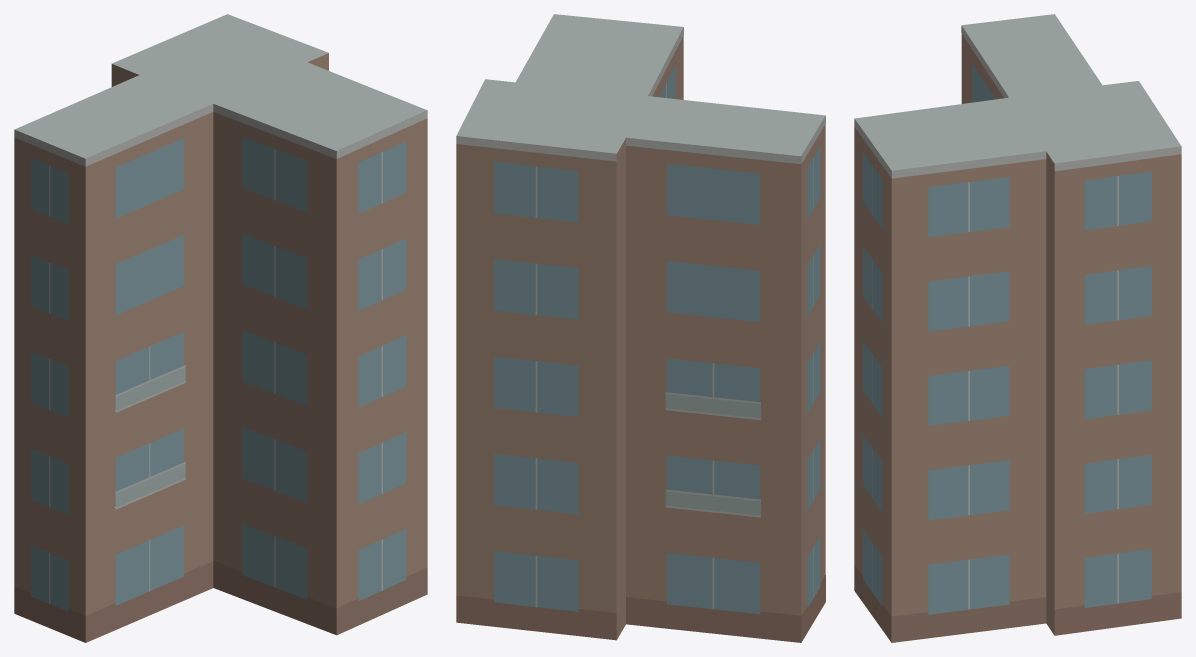
Rendered from survey-upis-32474088.glb.
3 views of the same model, side by side, from view 1: azimuth 30°, elevation 25°; view 2: azimuth 150°, elevation 25°; view 3: azimuth 270°, elevation 25° (orthographic). The views are drawn at different scales.
Parts seen in each view (by area): view 1: survey-upis-32474088.tmp; view 2: survey-upis-32474088.tmp; view 3: survey-upis-32474088.tmp.
Boxes of the visible parts, left/top/right/bottom form: survey-upis-32474088.tmp: left=14, top=14, right=427, bottom=642; survey-upis-32474088.tmp: left=456, top=14, right=825, bottom=642; survey-upis-32474088.tmp: left=854, top=14, right=1181, bottom=642.
Bounding box in the file's own units: 10.63 × 14.9 × 9.37.
